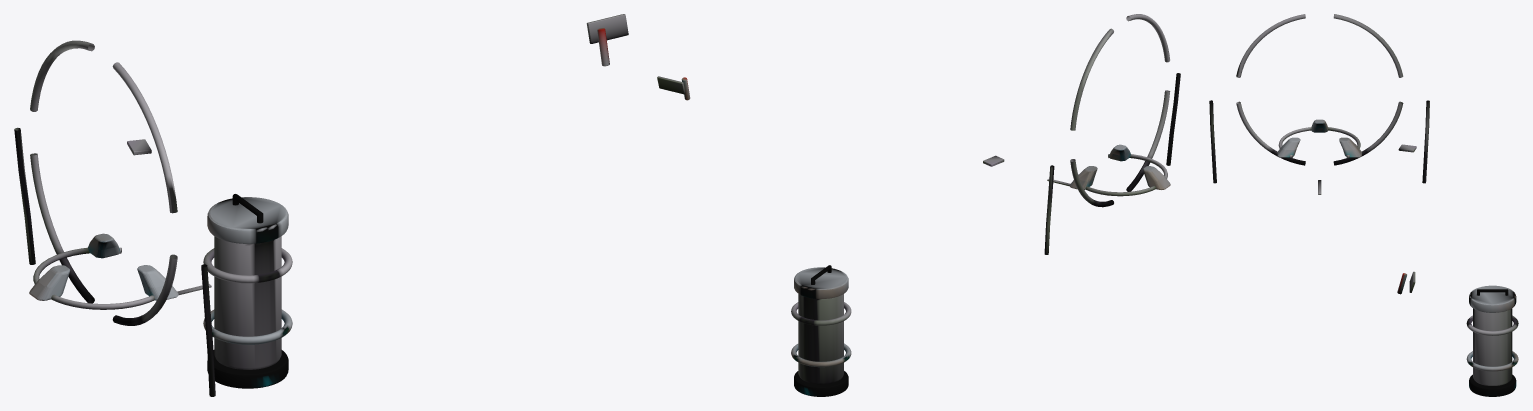
The model's file is device_parts.glb.
3 renders of one model, left to right at view 1: azimuth 30°, elevation 25°; view 2: azimuth 150°, elevation 25°; view 3: azimuth 270°, elevation 25°, orthographic. The views are drawn at different scales.
Visible parts, largest first — view 1: DYN_core__RESONANCE_core_body, DYN_core__RESONANCE_core_cap, DYN_core__RESONANCE_core_base, DYN_ring_1__RESONANCE_energy_segment_1, DYN_ring_3__RESONANCE_energy_segment_3, DYN_socket_light__RESONANCE_socket_energy_ring, DYN_core__RESONANCE_core_ring_high, DYN_conduit__RESONANCE_arm_energy_+1, DYN_core__RESONANCE_core_ring_low, DYN_conduit__RESONANCE_arm_energy_-1, DYN_ring_0__RESONANCE_energy_segment_0, DYN_ring_2__RESONANCE_energy_segment_2 (+3 smaller); view 2: DYN_core__RESONANCE_core_body, DYN_core__RESONANCE_core_cap, DYN_core__RESONANCE_core_base, DYN_ring_0__RESONANCE_energy_segment_0, DYN_ring_2__RESONANCE_energy_segment_2, DYN_socket_light__RESONANCE_socket_energy_ring, DYN_core__RESONANCE_core_ring_low, DYN_core__RESONANCE_core_ring_high, DYN_conduit__RESONANCE_arm_energy_-1; view 3: DYN_core__RESONANCE_core_body, DYN_core__RESONANCE_core_cap, DYN_core__RESONANCE_core_base, DYN_ring_0__RESONANCE_energy_segment_0, DYN_ring_1__RESONANCE_energy_segment_1, DYN_ring_2__RESONANCE_energy_segment_2, DYN_ring_3__RESONANCE_energy_segment_3, DYN_core__RESONANCE_core_ring_low, DYN_conduit__RESONANCE_arm_energy_-1, DYN_core__RESONANCE_core_ring_high, DYN_conduit__RESONANCE_arm_energy_+1, DYN_socket_light__RESONANCE_socket_energy_ring.
Part boxes in pixels (x1,y1,x2,y2): DYN_core__RESONANCE_core_body: (214,236,281,369); DYN_core__RESONANCE_core_cap: (207,197,288,243); DYN_core__RESONANCE_core_base: (207,350,288,388); DYN_ring_1__RESONANCE_energy_segment_1: (112,62,177,213); DYN_ring_3__RESONANCE_energy_segment_3: (30,153,94,303); DYN_socket_light__RESONANCE_socket_energy_ring: (33,247,154,309); DYN_core__RESONANCE_core_ring_high: (203,248,292,283); DYN_conduit__RESONANCE_arm_energy_+1: (14,127,35,264); DYN_core__RESONANCE_core_ring_low: (203,309,292,344); DYN_conduit__RESONANCE_arm_energy_-1: (201,264,215,396); DYN_ring_0__RESONANCE_energy_segment_0: (30,40,94,111); DYN_ring_2__RESONANCE_energy_segment_2: (112,254,177,325); DYN_core__RESONANCE_core_body: (798,294,843,384); DYN_core__RESONANCE_core_cap: (794,267,848,298); DYN_core__RESONANCE_core_base: (794,371,848,396); DYN_ring_0__RESONANCE_energy_segment_0: (1070,28,1113,130); DYN_ring_2__RESONANCE_energy_segment_2: (1126,90,1170,191); DYN_socket_light__RESONANCE_socket_energy_ring: (1085,154,1167,196); DYN_core__RESONANCE_core_ring_low: (791,343,851,367); DYN_core__RESONANCE_core_ring_high: (791,302,851,325); DYN_conduit__RESONANCE_arm_energy_-1: (1166,73,1180,165); DYN_core__RESONANCE_core_body: (1473,308,1512,385); DYN_core__RESONANCE_core_cap: (1469,285,1516,312); DYN_core__RESONANCE_core_base: (1469,374,1516,396); DYN_ring_0__RESONANCE_energy_segment_0: (1333,14,1403,77); DYN_ring_1__RESONANCE_energy_segment_1: (1236,14,1305,77); DYN_ring_2__RESONANCE_energy_segment_2: (1236,101,1305,165); DYN_ring_3__RESONANCE_energy_segment_3: (1333,101,1403,165); DYN_core__RESONANCE_core_ring_low: (1466,351,1518,371); DYN_conduit__RESONANCE_arm_energy_-1: (1209,100,1216,183); DYN_core__RESONANCE_core_ring_high: (1466,315,1518,335); DYN_conduit__RESONANCE_arm_energy_+1: (1422,100,1429,183); DYN_socket_light__RESONANCE_socket_energy_ring: (1278,127,1360,158).
Bounding box in the file's own units: 5.74 × 4.08 × 3.93.
